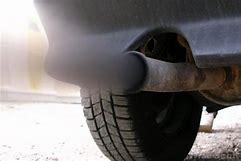smoke: (12, 25, 140, 97)
